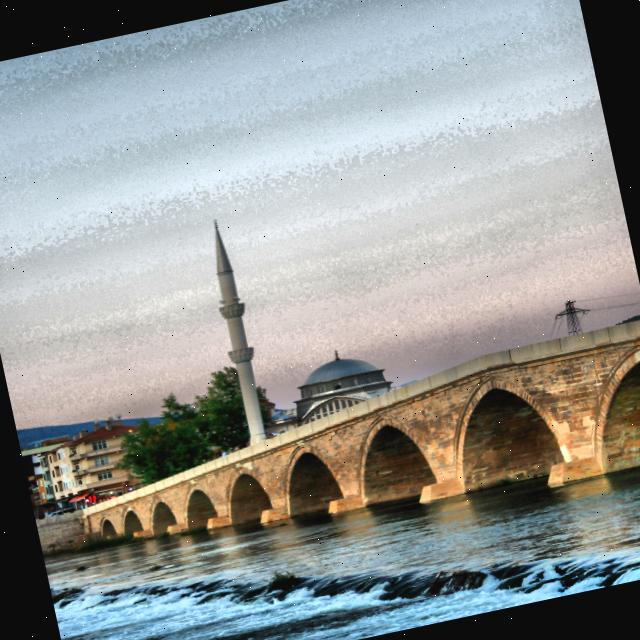stone bridge: (74, 315, 640, 590)
